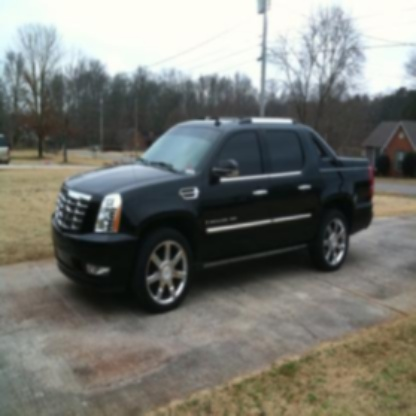Vehicle: (53, 113, 376, 315)
